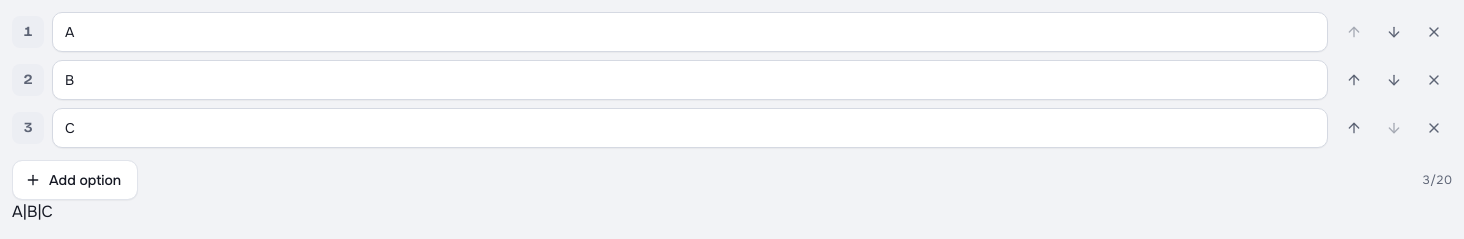
Test: OptionListEditor › reorders with the move buttons
Click the button named "Move option 3 up".
click(1354, 128)  # box [1336,110,1372,146]
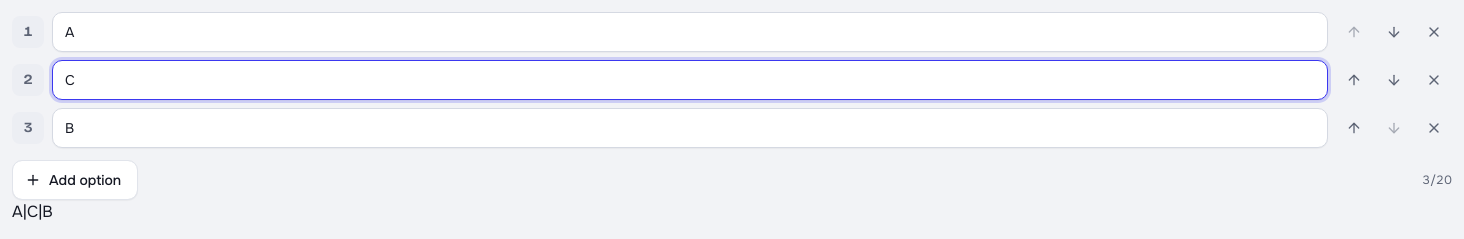
Expected: the button named "Move option 1 up" is disabled, [1336,14,1372,50]
Expected: the text with test id "labels" reads "A|C|B", [12,201,53,222]
